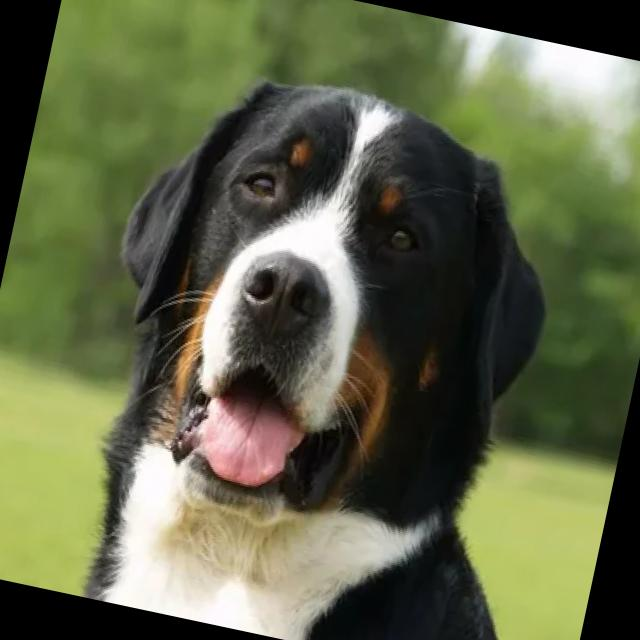Dog: (47, 45, 569, 640)
